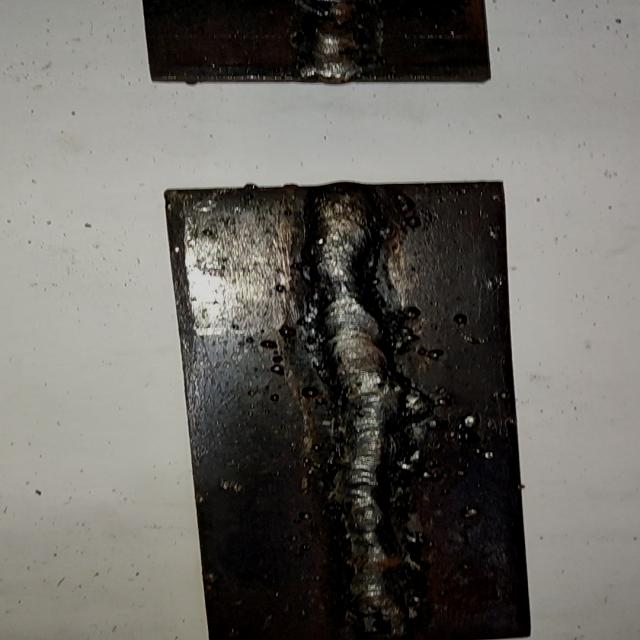Bad Weld: (316, 190, 405, 638)
Defect: (301, 367, 443, 438), (302, 0, 368, 75)
